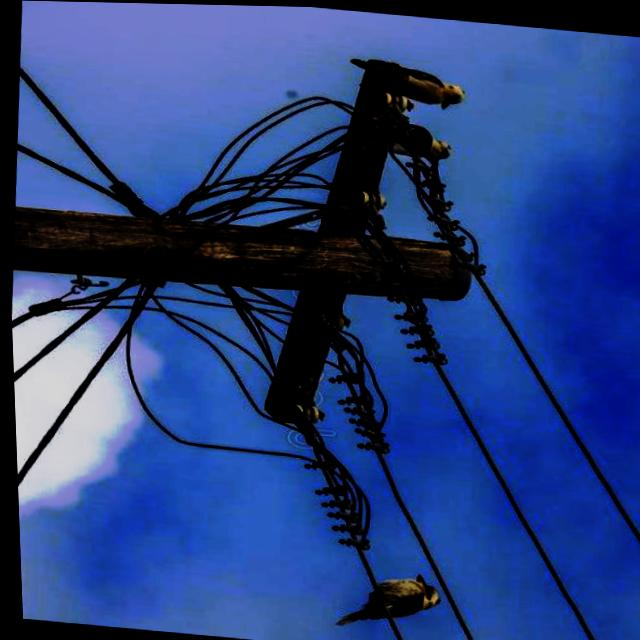poles: (12, 54, 477, 630)
wires: (426, 281, 640, 640), (12, 342, 140, 507)
